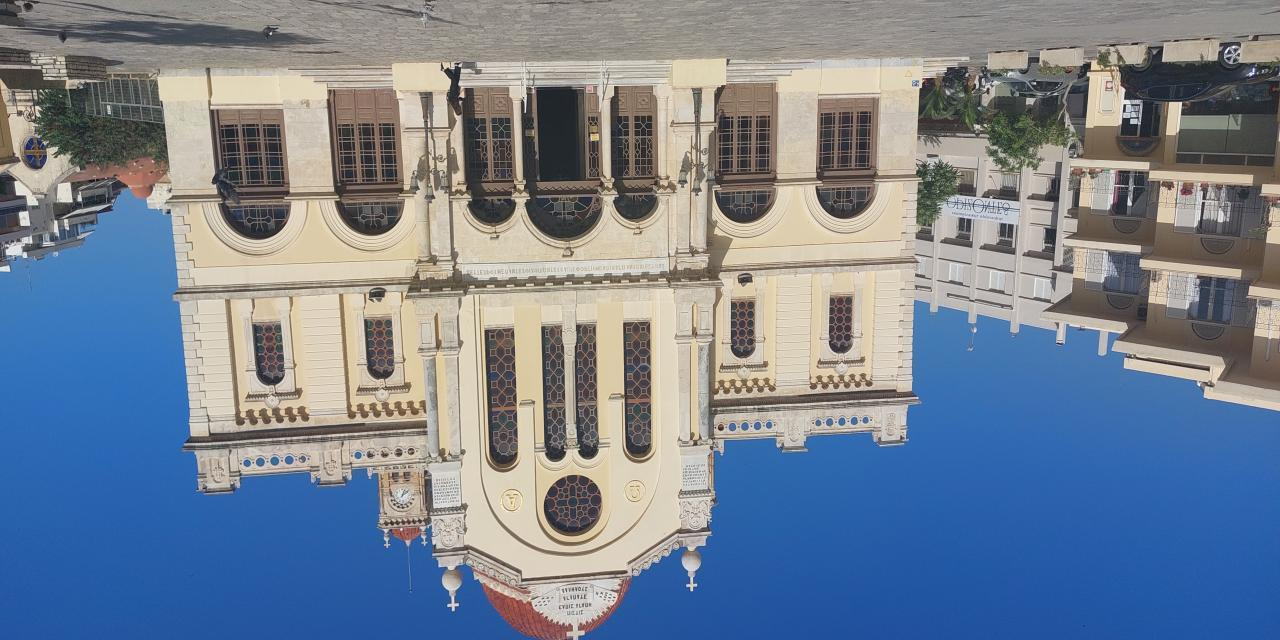Agios Minas: (150, 51, 926, 640)
